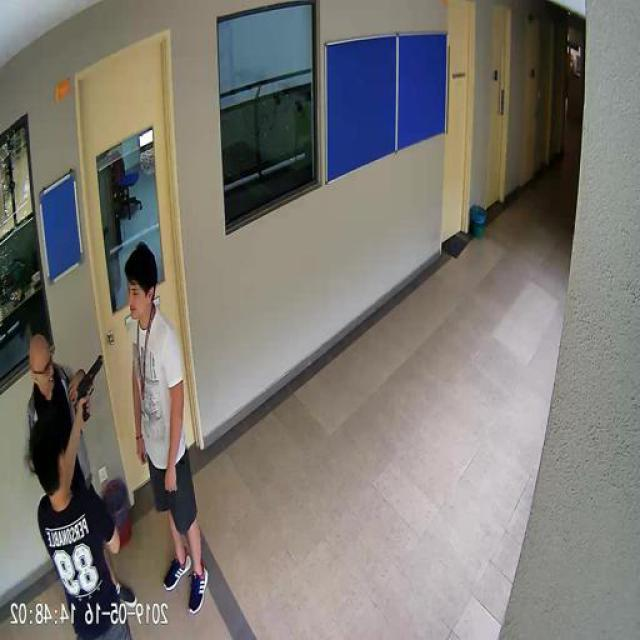Gun: (78, 354, 104, 422)
